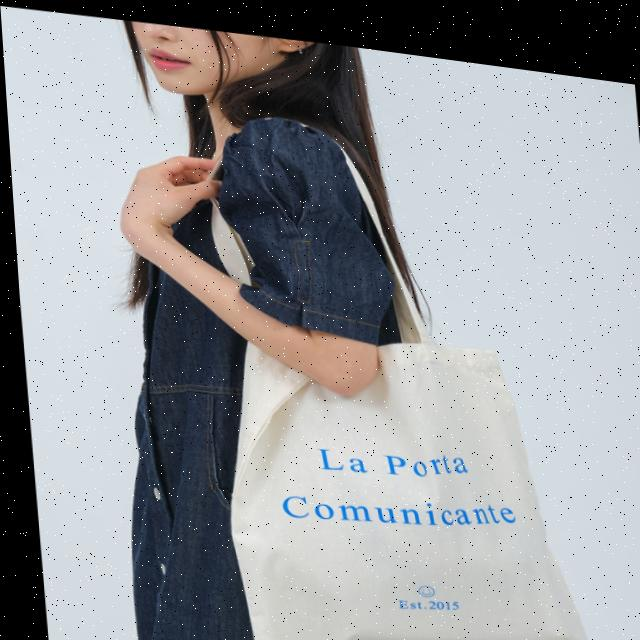ecobag: (146, 105, 601, 640)
